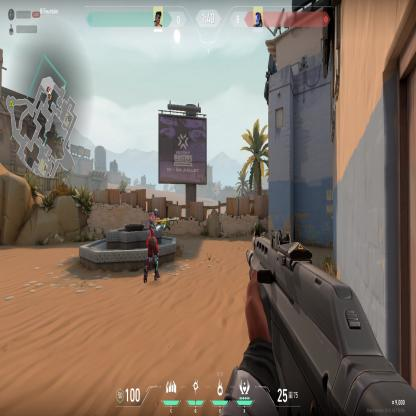enemy: (142, 206, 171, 288)
